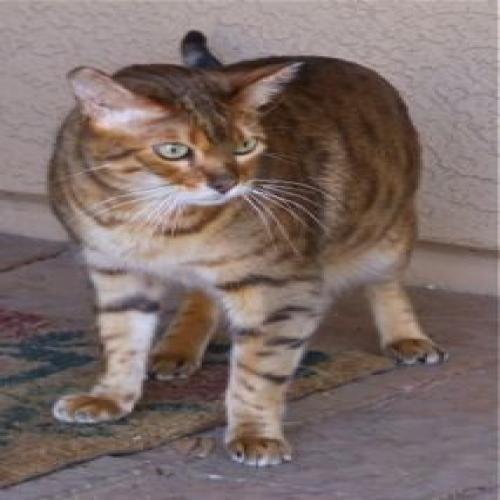bengal: (58, 54, 306, 209)
